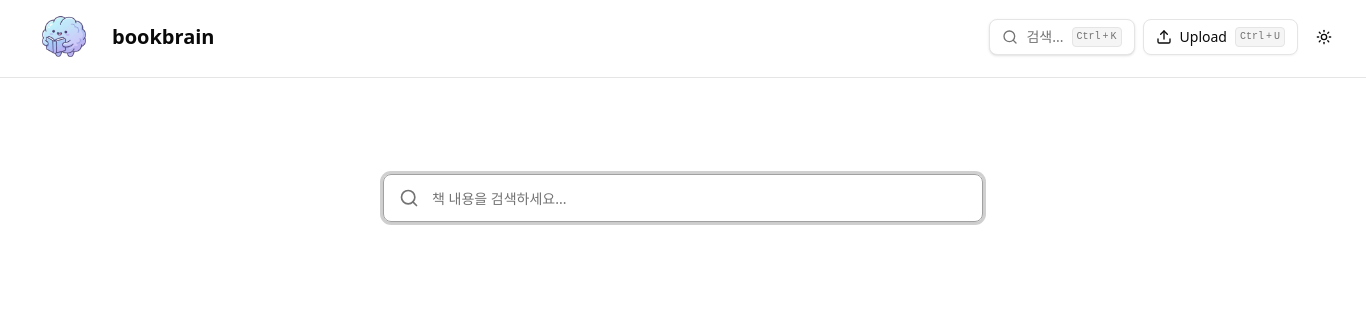
it: App › shows empty message when no results
The width and height of the screenshot is (1366, 318).
Step 1. Type "nonexistent" into the field with placeholder "책 내용을 검색하세요..." → (683, 198), box [383,174,983,222]
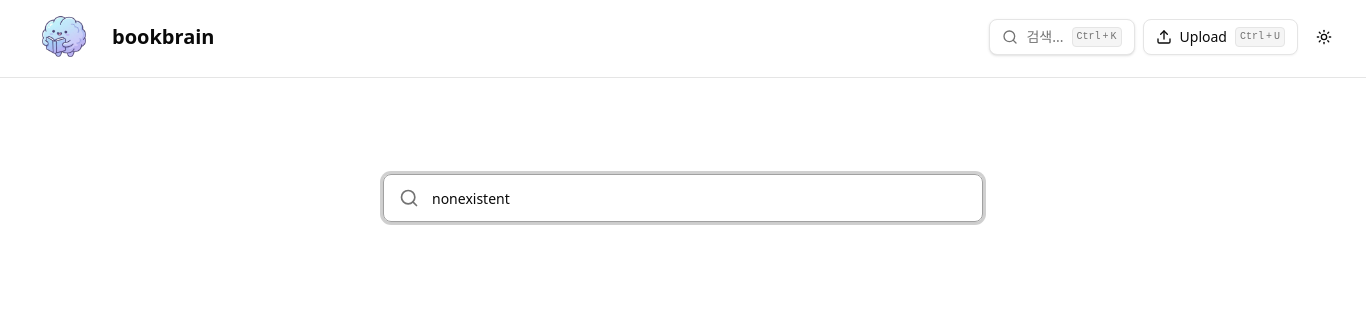
Step 2. Press Enter
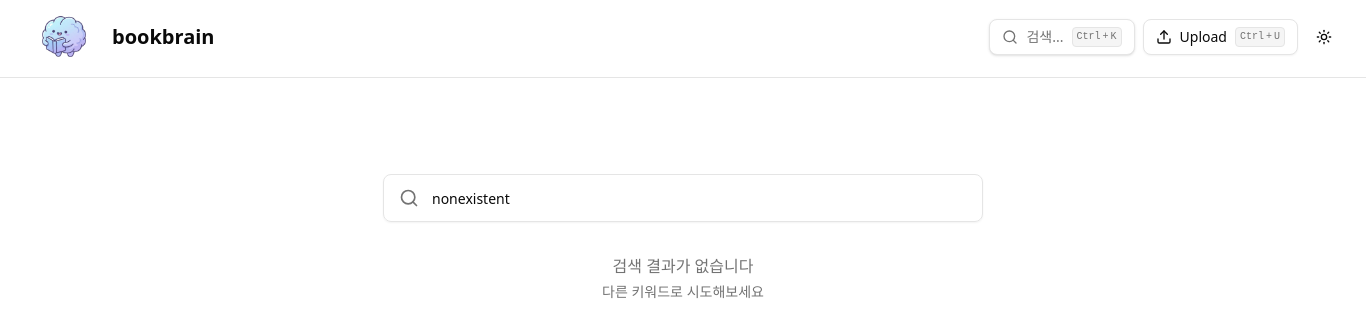
Check: the text "검색 결과가 없습니다" is shown, box [613,255,753,277]
Check: the text "다른 키워드로 시도해보세요" is shown, box [602,282,764,301]
